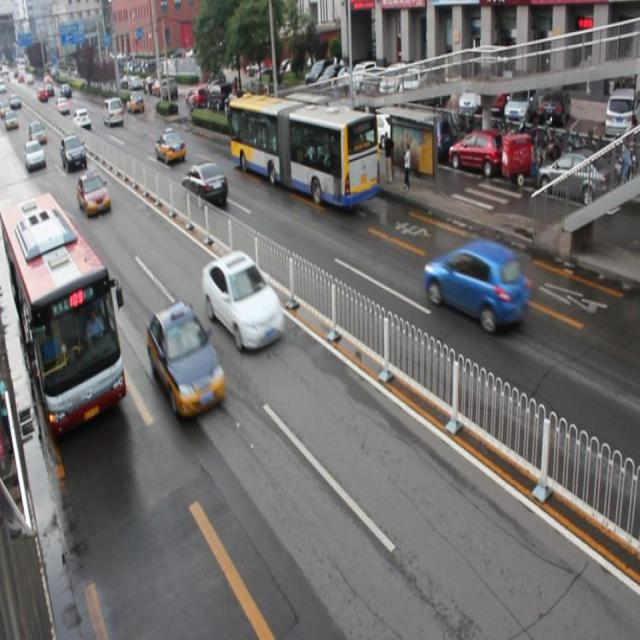car: (422, 242, 528, 333), (146, 302, 226, 421), (203, 254, 286, 354), (182, 159, 228, 207), (77, 169, 111, 217), (155, 127, 186, 163)
van: (1, 194, 127, 438), (229, 92, 379, 209)
